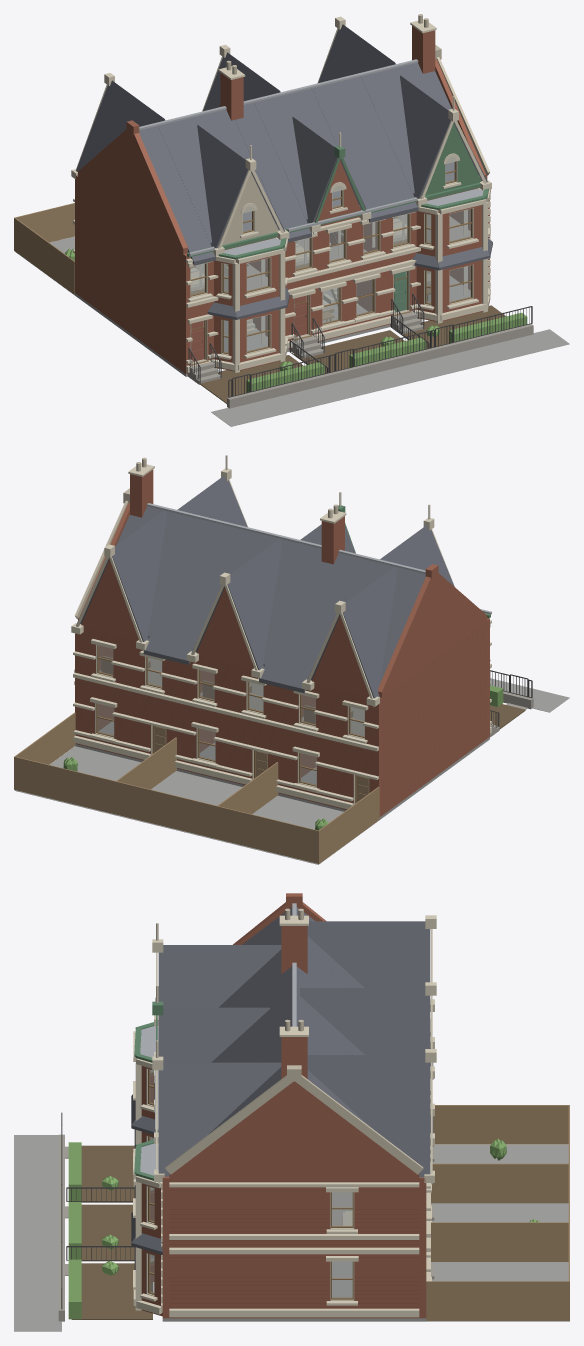
File: clay-queen-anne-rowhouse-trio-clay-v008.glb
The picture shows the model from 3 angles, top to bottom: view 1: azimuth 30°, elevation 25°; view 2: azimuth 150°, elevation 25°; view 3: azimuth 270°, elevation 25°; orthographic projection. The views are drawn at different scales.
Visible parts, largest first — view 1: CLAY_ROOF, CLAY_WALL, CLAY_PALE, CLAY_FOUNDATION, CLAY_GLASS, CLAY_STONE, CLAY_SAND, CLAY_HARDWARE, CLAY_SOIL, CLAY_TIMBER, CLAY_GREEN, CLAY_PLANTING (+6 smaller); view 2: CLAY_WALL, CLAY_ROOF, CLAY_TIMBER, CLAY_PALE, CLAY_FOUNDATION, CLAY_GLASS, CLAY_JOINT, CLAY_SAND, CLAY_TRIM, CLAY_LEAD, CLAY_FLOOR, CLAY_PLANTING (+2 smaller); view 3: CLAY_ROOF, CLAY_WALL, CLAY_TIMBER, CLAY_FOUNDATION, CLAY_PALE, CLAY_SOIL, CLAY_JOINT, CLAY_SAND, CLAY_PLANTING, CLAY_GLASS, CLAY_STONE, CLAY_LEAD (+4 smaller).
Part boxes in pixels (bbox=[...]): CLAY_ROOF: bbox=[76, 24, 492, 319]; CLAY_WALL: bbox=[75, 26, 489, 373]; CLAY_PALE: bbox=[71, 16, 491, 373]; CLAY_FOUNDATION: bbox=[15, 236, 569, 426]; CLAY_GLASS: bbox=[190, 157, 470, 352]; CLAY_STONE: bbox=[187, 310, 533, 408]; CLAY_SAND: bbox=[190, 14, 489, 364]; CLAY_HARDWARE: bbox=[188, 230, 532, 397]; CLAY_SOIL: bbox=[200, 305, 505, 403]; CLAY_TIMBER: bbox=[14, 203, 433, 337]; CLAY_GREEN: bbox=[187, 123, 488, 259]; CLAY_PLANTING: bbox=[65, 248, 527, 392]; CLAY_WALL: bbox=[75, 469, 489, 816]; CLAY_ROOF: bbox=[76, 476, 454, 698]; CLAY_TIMBER: bbox=[14, 655, 379, 863]; CLAY_PALE: bbox=[71, 455, 491, 809]; CLAY_FOUNDATION: bbox=[14, 678, 569, 864]; CLAY_GLASS: bbox=[98, 645, 364, 784]; CLAY_JOINT: bbox=[75, 622, 486, 809]; CLAY_SAND: bbox=[74, 457, 369, 804]; CLAY_TRIM: bbox=[96, 645, 364, 803]; CLAY_LEAD: bbox=[146, 503, 491, 614]; CLAY_FLOOR: bbox=[99, 658, 364, 735]; CLAY_PLANTING: bbox=[63, 685, 503, 830]; CLAY_ROOF: bbox=[131, 907, 433, 1254]; CLAY_WALL: bbox=[141, 893, 426, 1318]; CLAY_TIMBER: bbox=[342, 1105, 569, 1320]; CLAY_FOUNDATION: bbox=[14, 1135, 569, 1331]; CLAY_PALE: bbox=[133, 915, 436, 1317]; CLAY_SOIL: bbox=[71, 1145, 152, 1319]; CLAY_JOINT: bbox=[142, 1069, 418, 1315]; CLAY_SAND: bbox=[146, 908, 423, 1300]; CLAY_PLANTING: bbox=[68, 1138, 539, 1319]; CLAY_GLASS: bbox=[150, 1070, 352, 1297]; CLAY_STONE: bbox=[58, 1134, 434, 1321]; CLAY_LEAD: bbox=[140, 903, 296, 1175].
Size of the model in its own units: 19.4 by 13.55 by 23.2.
